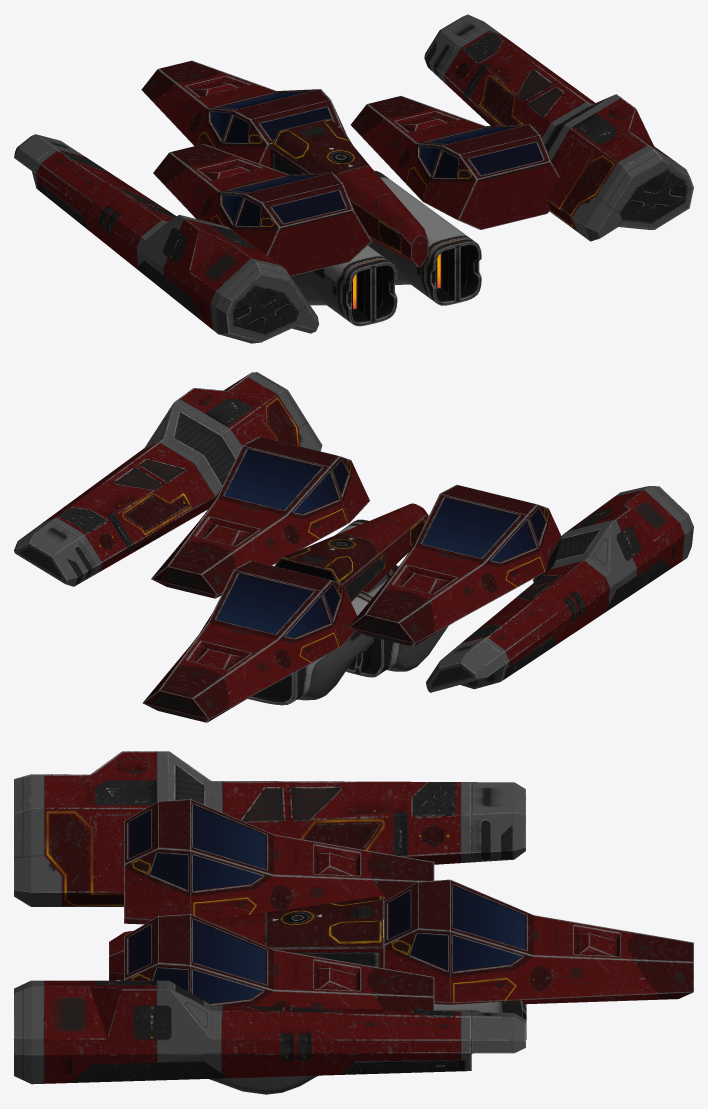
The model's file is commander2.gltf.
3 views of the same model, one above another, from view 1: azimuth 30°, elevation 25°; view 2: azimuth 150°, elevation 25°; view 3: azimuth 270°, elevation 25° (orthographic). The views are drawn at different scales.
Visible parts, largest first — view 1: MainBody13_Mirrored, MainBody13, Cockpit3_WithoutInterior (1), Cockpit3_WithoutInterior (2), Cockpit3_WithoutInterior, MainBody2, Engine1 (2), Engine1 (3); view 2: MainBody13_Mirrored, MainBody13, Cockpit3_WithoutInterior, Cockpit3_WithoutInterior (2), Cockpit3_WithoutInterior (1), MainBody2, Engine1, Engine1 (3); view 3: MainBody13, MainBody13_Mirrored, Cockpit3_WithoutInterior, Cockpit3_WithoutInterior (2), Cockpit3_WithoutInterior (1), MainBody2, Engine1 (2), Engine1.
Boxes of the visible parts, <box> form: MainBody13_Mirrored: <box>424,14,693,241</box>; MainBody13: <box>14,134,318,343</box>; Cockpit3_WithoutInterior (1): <box>350,95,559,229</box>; Cockpit3_WithoutInterior (2): <box>153,144,372,276</box>; Cockpit3_WithoutInterior: <box>141,60,352,167</box>; MainBody2: <box>270,118,428,267</box>; Engine1 (2): <box>368,170,481,305</box>; Engine1 (3): <box>291,245,397,326</box>; MainBody13_Mirrored: <box>14,372,322,586</box>; MainBody13: <box>426,486,693,692</box>; Cockpit3_WithoutInterior: <box>142,560,357,722</box>; Cockpit3_WithoutInterior (2): <box>348,484,561,646</box>; Cockpit3_WithoutInterior (1): <box>151,436,369,598</box>; MainBody2: <box>274,503,428,601</box>; Engine1: <box>247,591,374,705</box>; Engine1 (3): <box>346,578,448,677</box>; MainBody13: <box>14,751,525,906</box>; MainBody13_Mirrored: <box>14,980,525,1084</box>; Cockpit3_WithoutInterior: <box>384,879,693,1004</box>; Cockpit3_WithoutInterior (2): <box>124,799,434,924</box>; Cockpit3_WithoutInterior (1): <box>124,914,434,1010</box>; MainBody2: <box>109,896,383,980</box>; Engine1 (2): <box>209,1075,318,1094</box>; Engine1: <box>383,938,526,1053</box>.
Bounding box in the file's own units: 12.16 × 4.15 × 12.64.
Materials: 5 (5 with a texture image).
